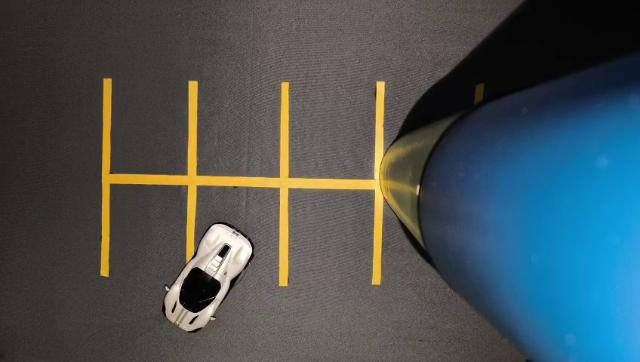toy_car: (148, 206, 286, 344)
